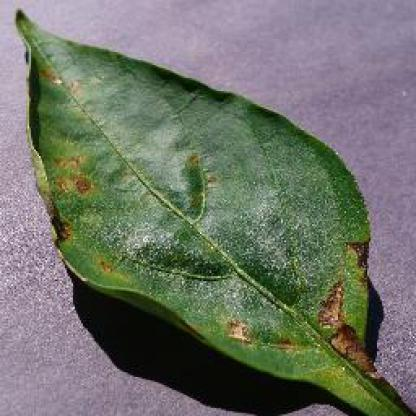bad leaf: (24, 10, 391, 414)
